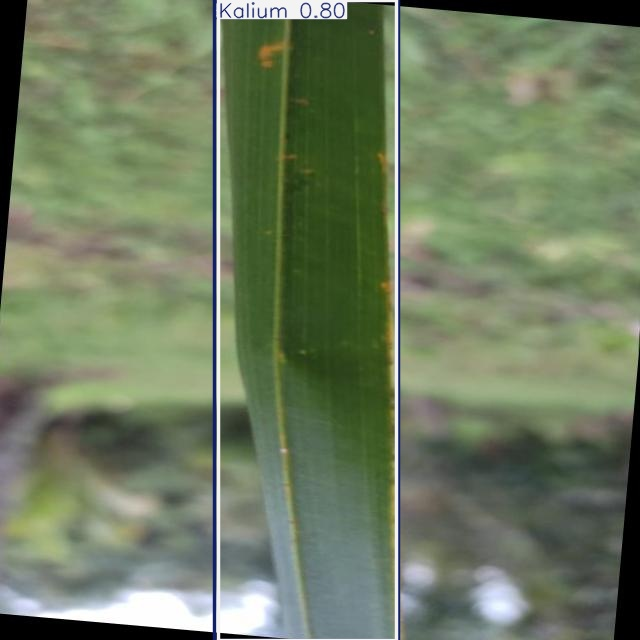Kalium: (218, 0, 396, 640)
nitrogen: (215, 0, 399, 640)
